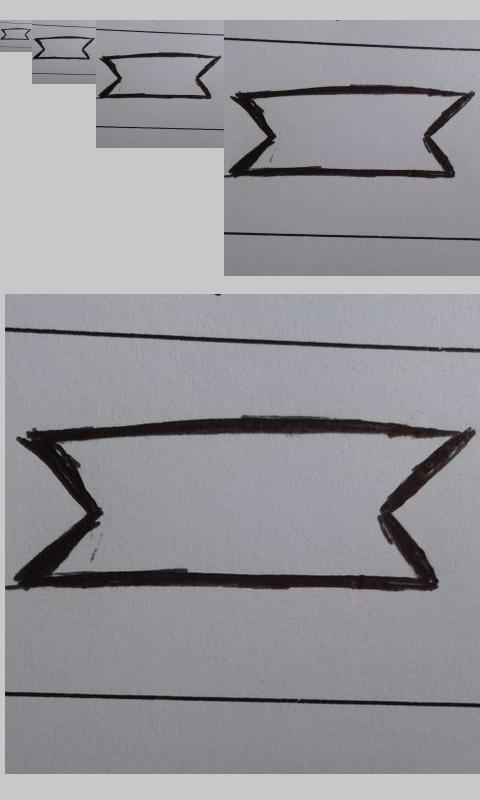edit_text: (12, 413, 472, 596), (229, 85, 473, 179), (98, 53, 221, 99), (33, 36, 95, 60), (1, 28, 31, 41)
